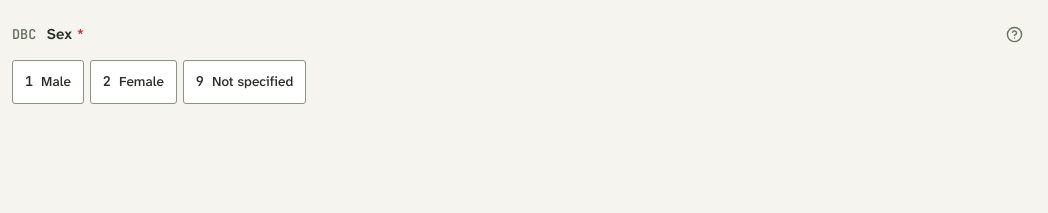
Scenario: FieldInput — field help popover › closes on Escape and returns focus to the help button
Click the button named "show help for DBC". click: (1014, 34)
box: top-left (992, 12), bottom-right (1036, 56)
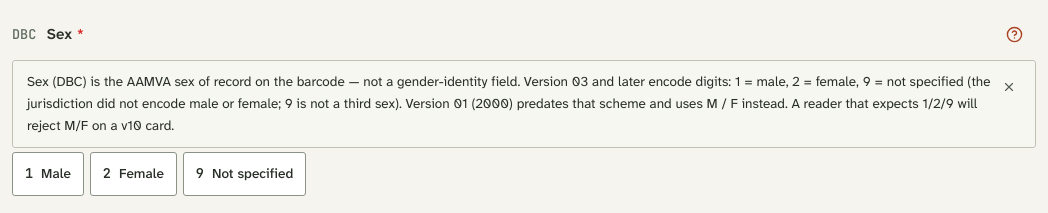
Press Escape
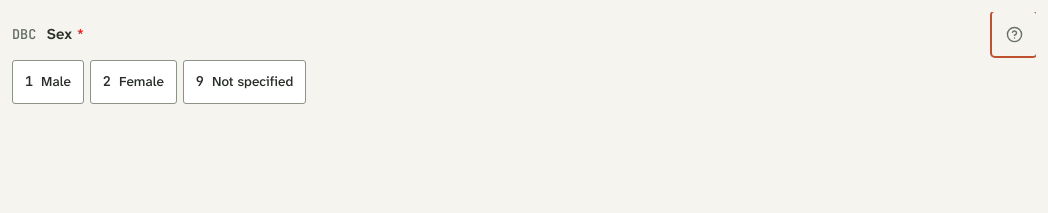
Check: the tooltip is gone
